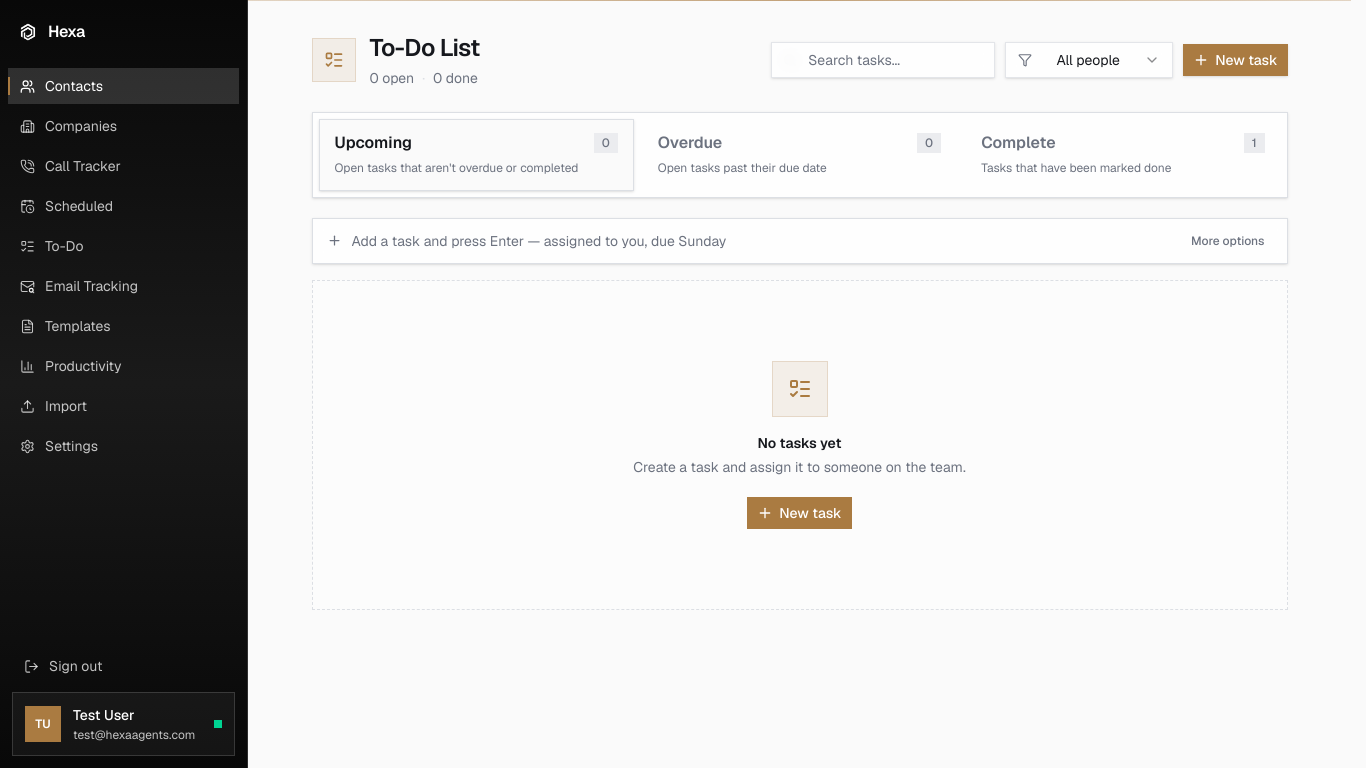
Scenario: TodoListPage › does not highlight completed overdue tasks
The image size is (1366, 768).
Click the button "Complete 1 Tasks that have been marked done". click: (1018, 142)
box: x1=965 y1=119 x2=1280 y2=190
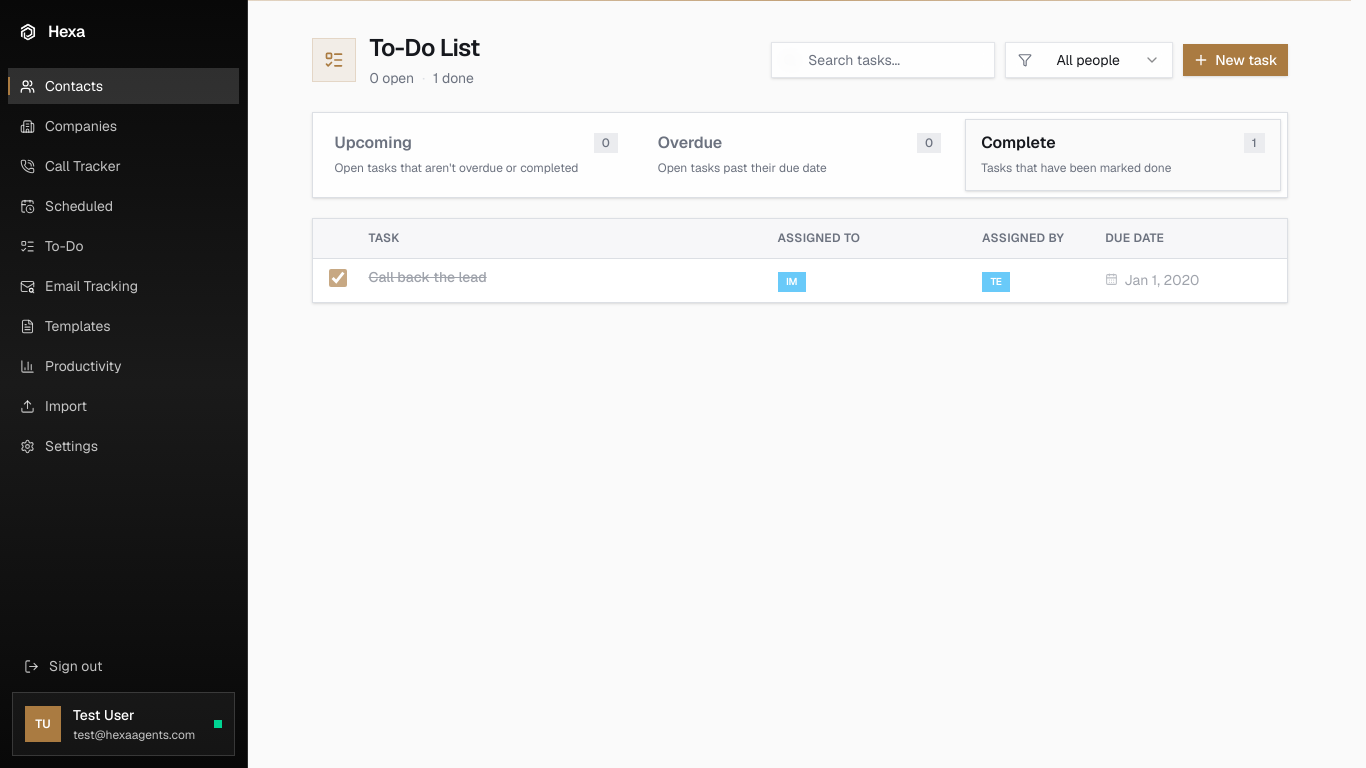
Check: the link "Call back the lead IM TE Jan 1, 2020" is shown, box x1=312 y1=258 x2=1286 y2=302
